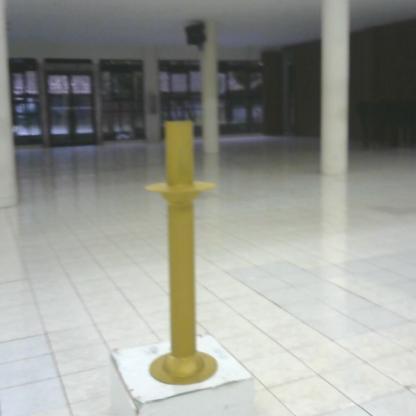pole: (142, 110, 229, 397)
